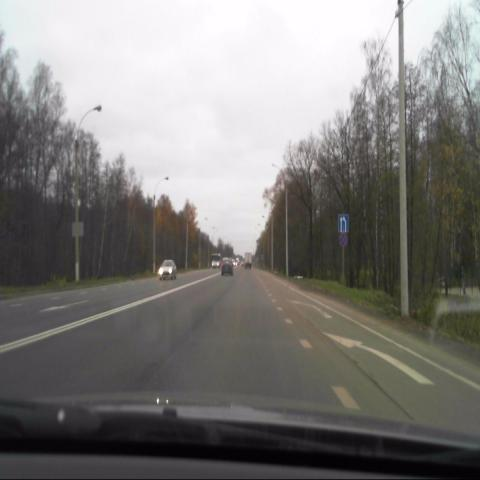3_27: (339, 233, 347, 246)
5_15_5: (338, 212, 349, 231)
